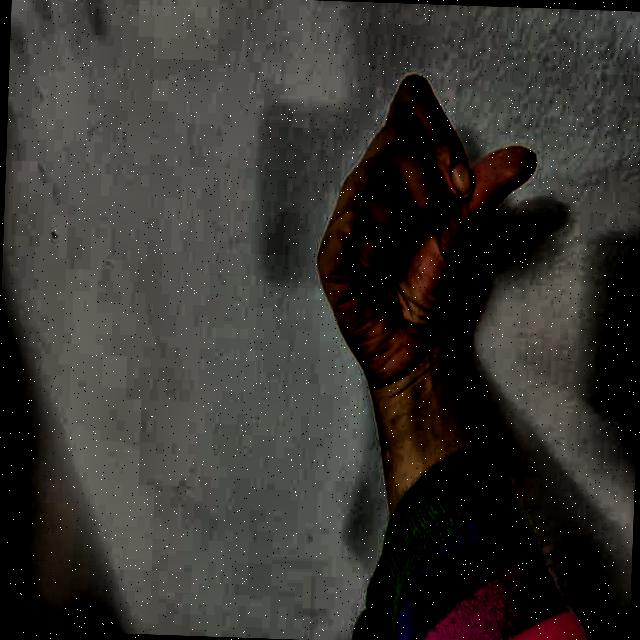Ay: (282, 36, 554, 396)
